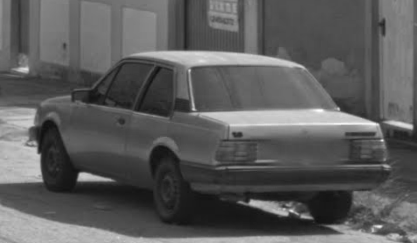car: (29, 48, 393, 230)
